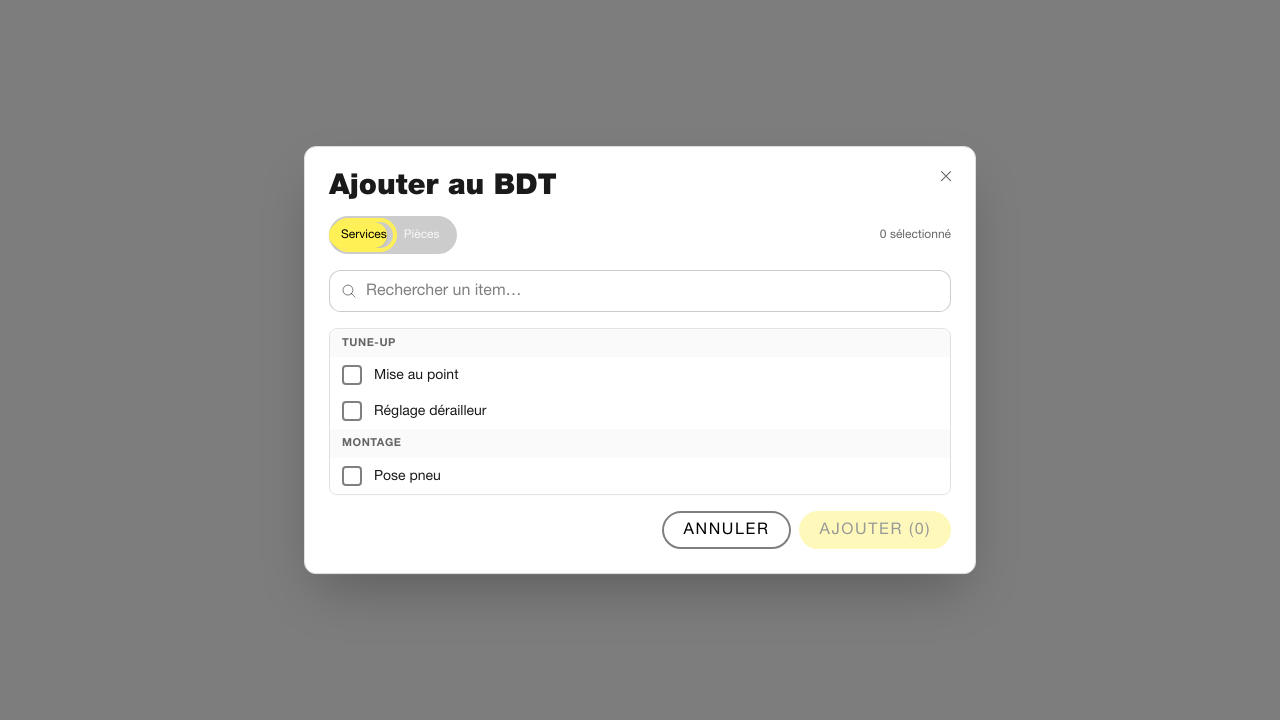
Scenario: AjoutItemsModal › toggle PIECE switche la liste
Click the radio button labelled "Pièces" at (422, 235), box [393, 222, 451, 248]
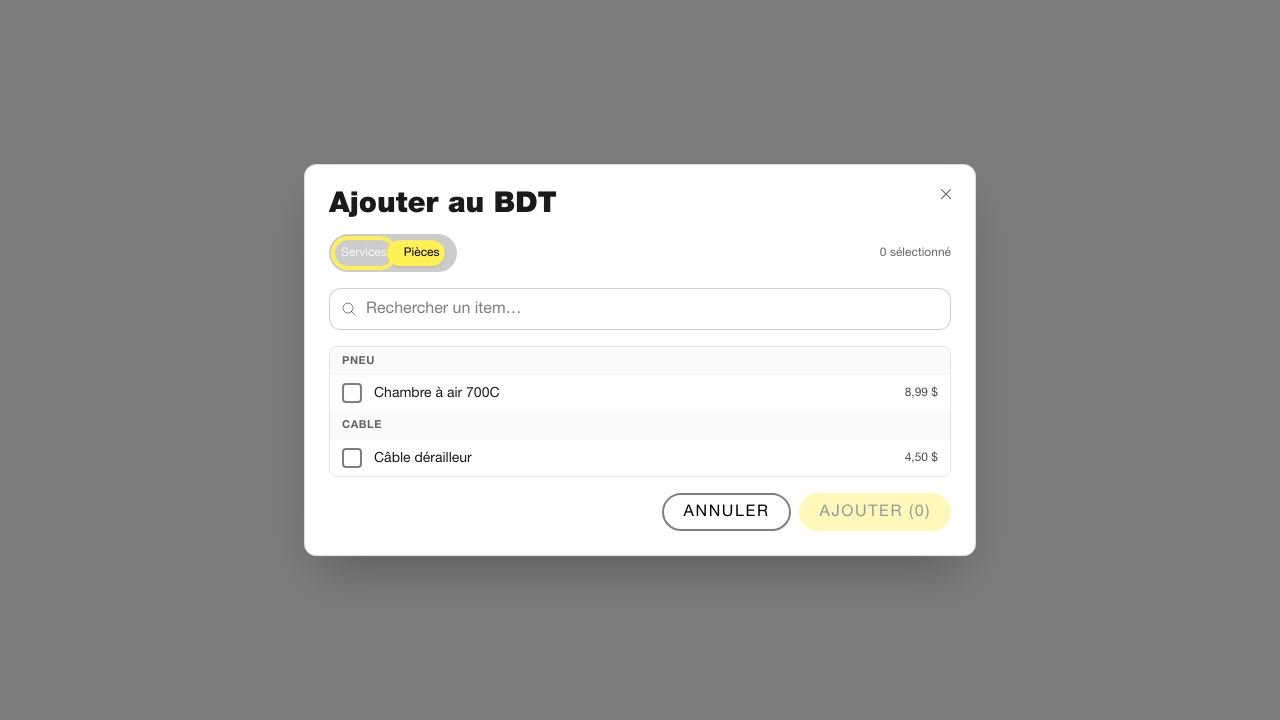
Result: the text "Chambre à air 700C" is shown at [374, 385, 500, 400]
Result: the text "Mise au point" is gone
